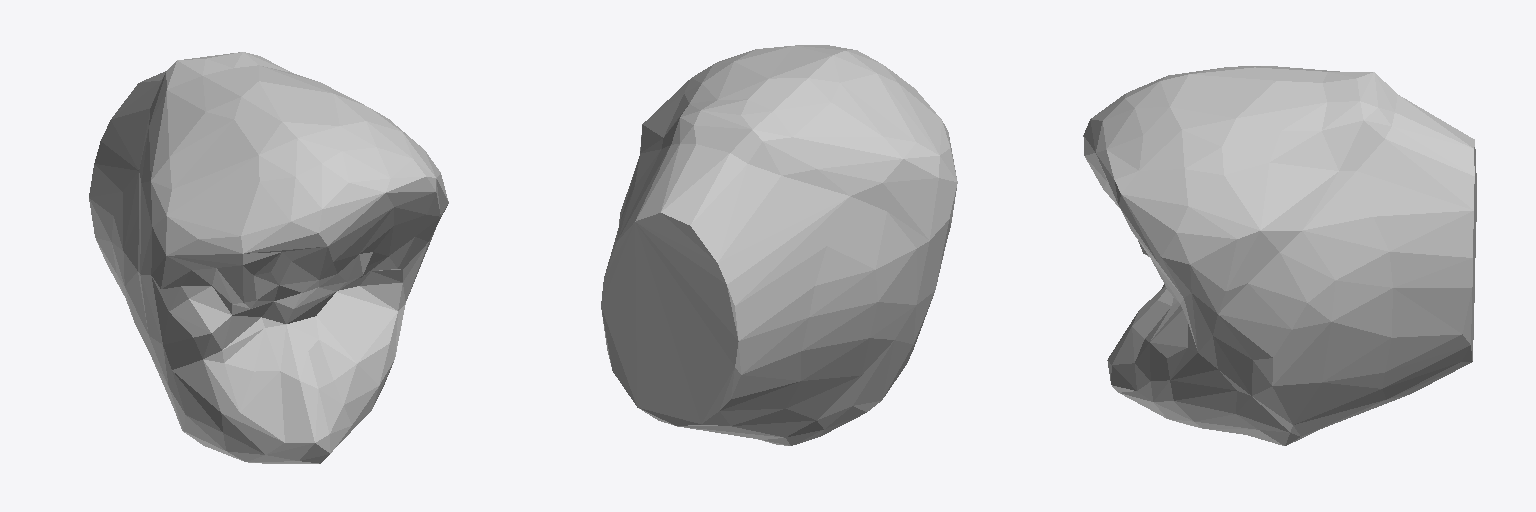
Rendered from local_t24_7780_si.OBJ.
3 views of the same model, side by side, from view 1: azimuth 30°, elevation 25°; view 2: azimuth 150°, elevation 25°; view 3: azimuth 270°, elevation 25° (orthographic).
Parts seen in each view (by area): view 1: Group28749; view 2: Group28749; view 3: Group28749.
Boxes of the visible parts, x1=… form: Group28749: x1=89, y1=52, x2=448, y2=463; Group28749: x1=601, y1=45, x2=957, y2=445; Group28749: x1=1083, y1=66, x2=1476, y2=445.
Bounding box in the file's own units: 7.89 × 9.27 × 9.39.